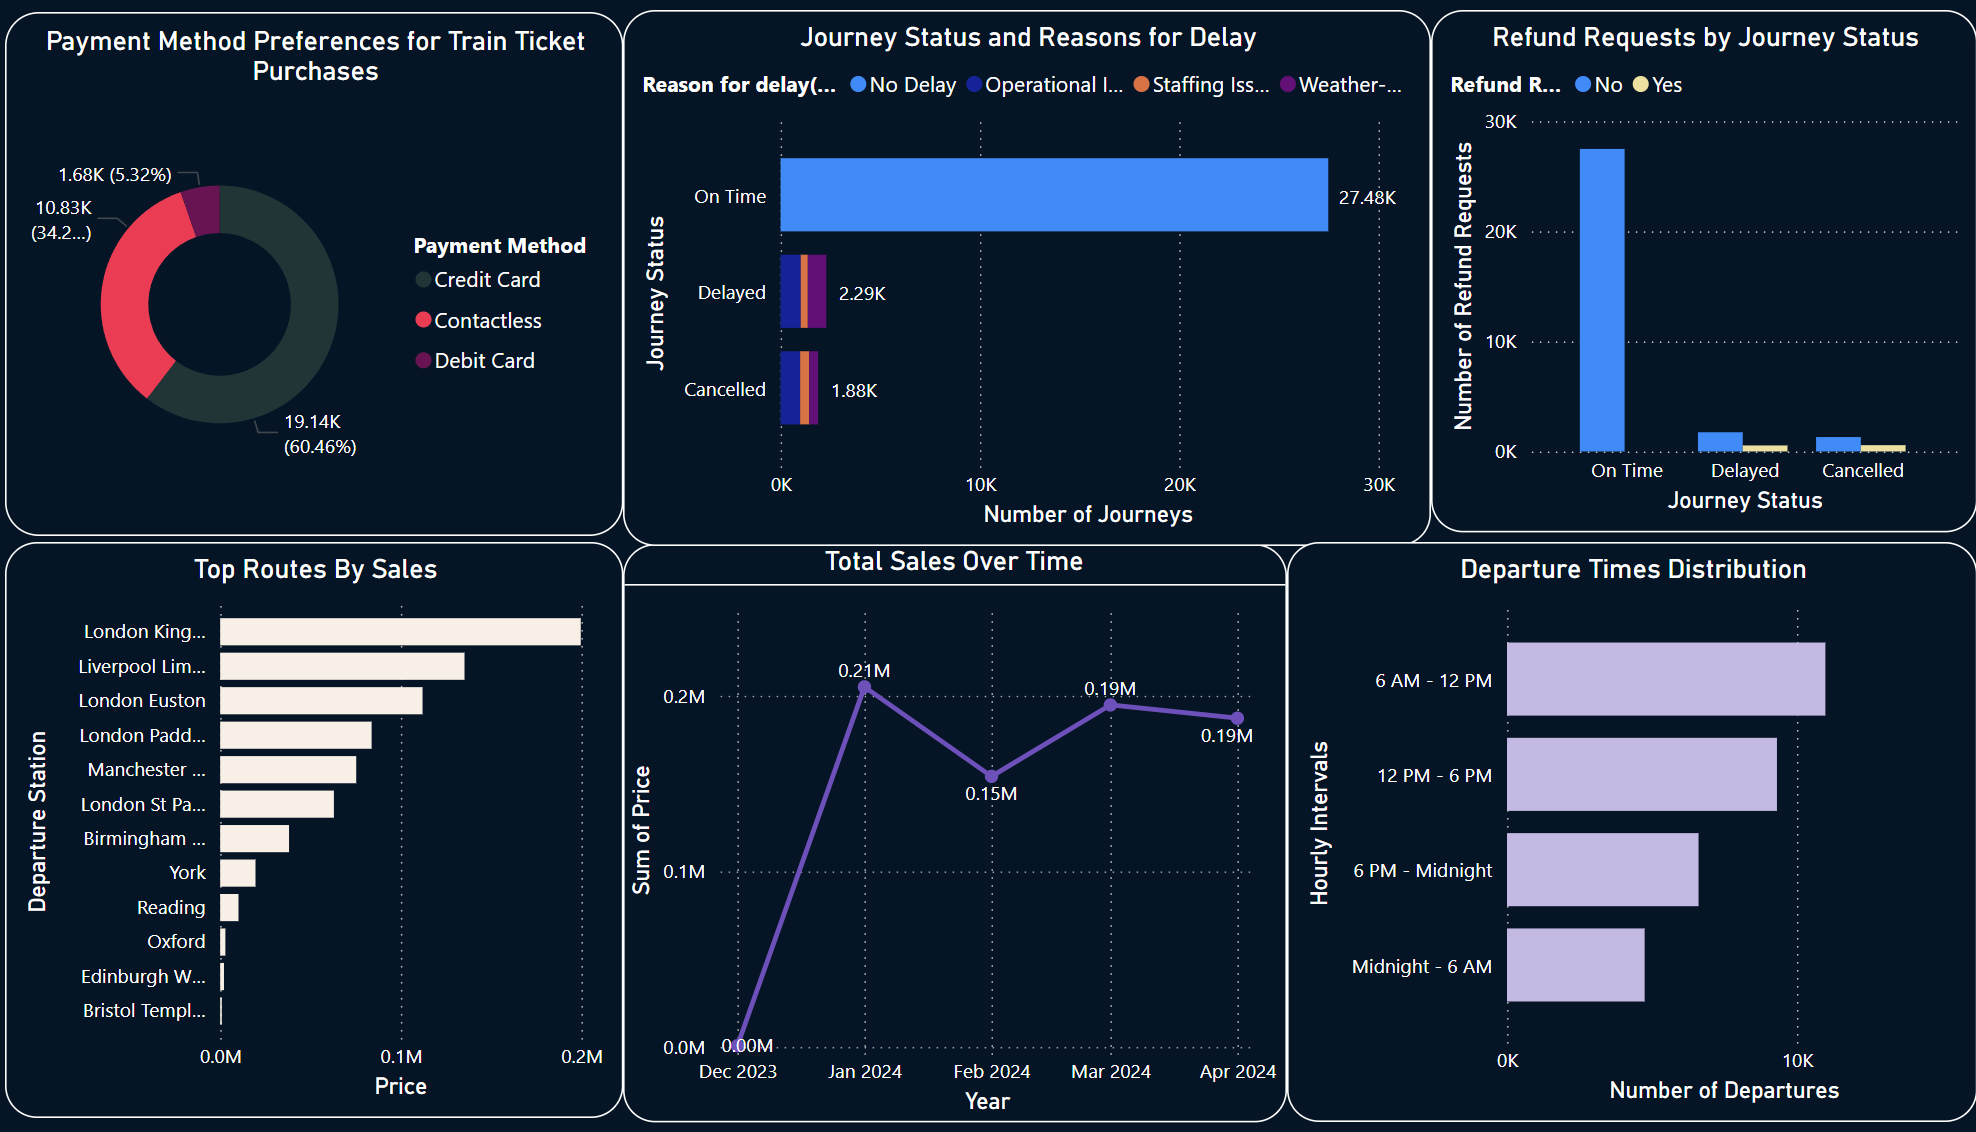

This screenshot's page, from the dashboard's own definition file:
{"tool":"powerbi","page":{"name":"Page 1","canvas":[1280,720],"ordinal":0},"visuals":[{"type":"lineChart","title":"Total Sales Over Time","fields":{"Y":["Sum(railway.Price)"],"Category":["railway.Date of Purchase.Variation.Date Hierarchy.Year","railway.Date of Purchase.Variation.Date Hierarchy.Quarter","railway.Date of Purchase.Variation.Date Hierarchy.Month"]},"box":[395,343.8,415,361.2],"z":0},{"type":"clusteredBarChart","title":"Top Routes By Sales","fields":{"Category":["railway.Departure Station"],"Y":["Sum(railway.Price)"]},"box":[8.8,342.5,386.2,360],"z":1000},{"type":"donutChart","title":"Payment Method Preferences for Train Ticket Purchases","fields":{"Category":["railway.Payment Method"],"Y":["CountNonNull(railway.Transaction ID)"]},"box":[8.8,11.2,386.2,327.5],"z":2000},{"type":"barChart","title":"Journey Status and Reasons for Delay","fields":{"Y":["CountNonNull(railway.Journey Status)"],"Category":["railway.Journey Status"],"Series":["railway.Reason for delay(modifed)"]},"box":[395,10,505,335],"z":2001},{"type":"clusteredColumnChart","title":"Refund Requests by Journey Status","fields":{"Category":["railway.Journey Status"],"Y":["CountNonNull(railway.Refund Request)"],"Series":["railway.Refund Request"]},"box":[900,10,341.2,326.2],"z":2002},{"type":"barChart","title":"Departure Times Distribution","fields":{"Y":["CountNonNull(railway.Departure Time)"],"Category":["railway.Departure Time Bin"]},"box":[810,342.5,431.2,362.5],"z":2003}]}

Visuals, with their boxes in screenshot pixels (x1, y1, x2, y2), scaled from the page's 1280x720 canvas onto the 1976x1132 screenshot:
"Total Sales Over Time" lineChart: <bbox>610, 541, 1250, 1108</bbox>
"Top Routes By Sales" clusteredBarChart: <bbox>14, 538, 610, 1104</bbox>
"Payment Method Preferences for Train Ticket Purchases" donutChart: <bbox>14, 18, 610, 533</bbox>
"Journey Status and Reasons for Delay" barChart: <bbox>610, 16, 1389, 542</bbox>
"Refund Requests by Journey Status" clusteredColumnChart: <bbox>1389, 16, 1916, 529</bbox>
"Departure Times Distribution" barChart: <bbox>1250, 538, 1916, 1108</bbox>
